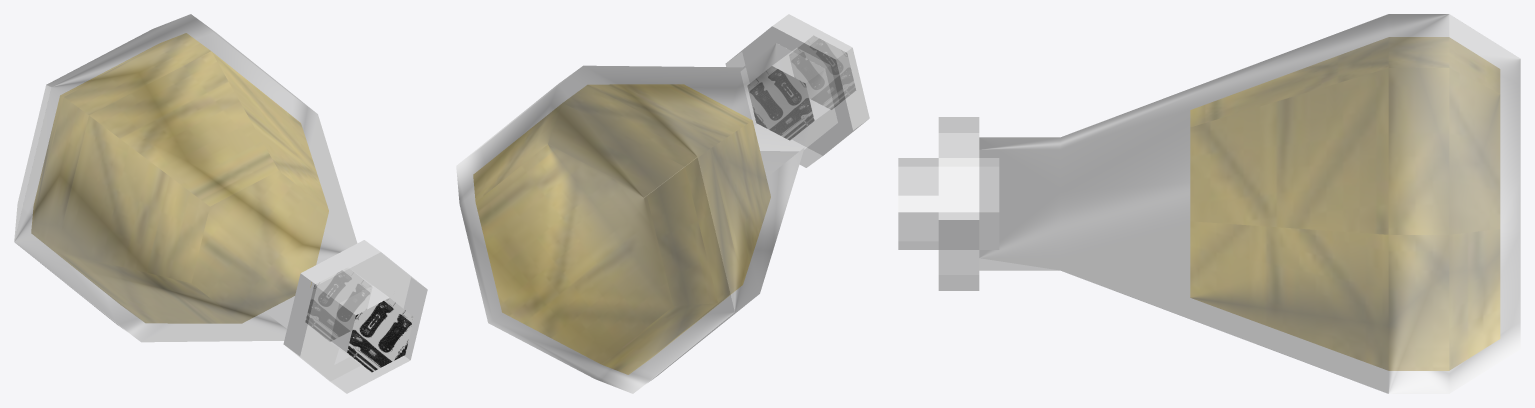
File: model_align.obj
3 views of the same model, side by side, from view 1: azimuth 30°, elevation 25°; view 2: azimuth 150°, elevation 25°; view 3: azimuth 270°, elevation 25° (orthographic). The views are drawn at different scales.
Size of the model in its own units: 0.1129 by 0.1129 by 0.1799.
